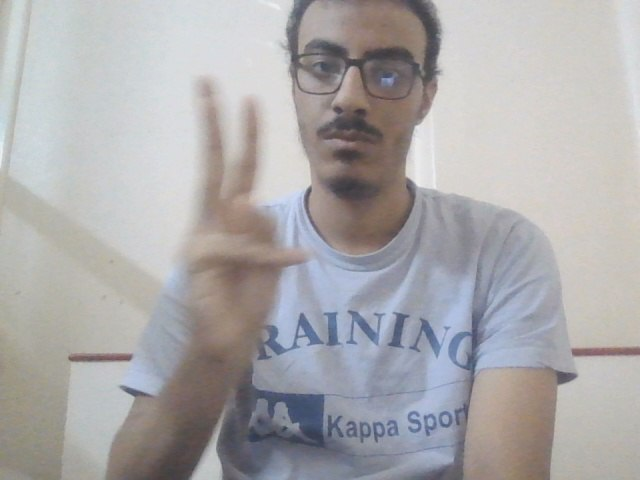Water: (162, 74, 320, 363)
